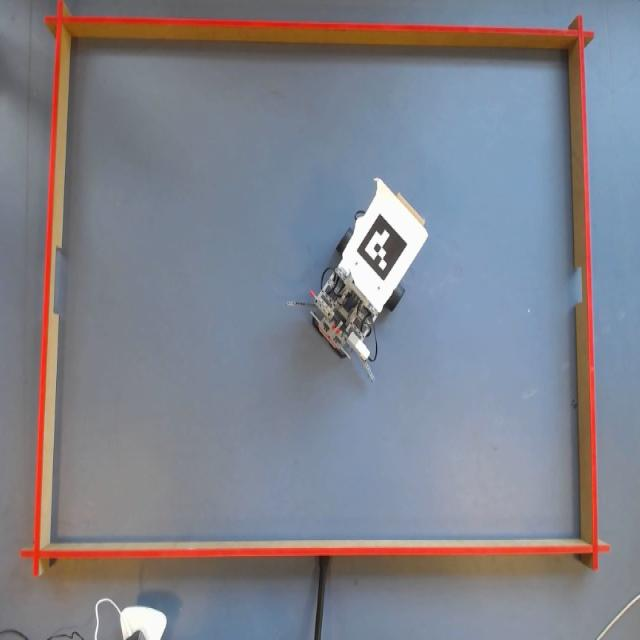ev3: (299, 180, 428, 357)
